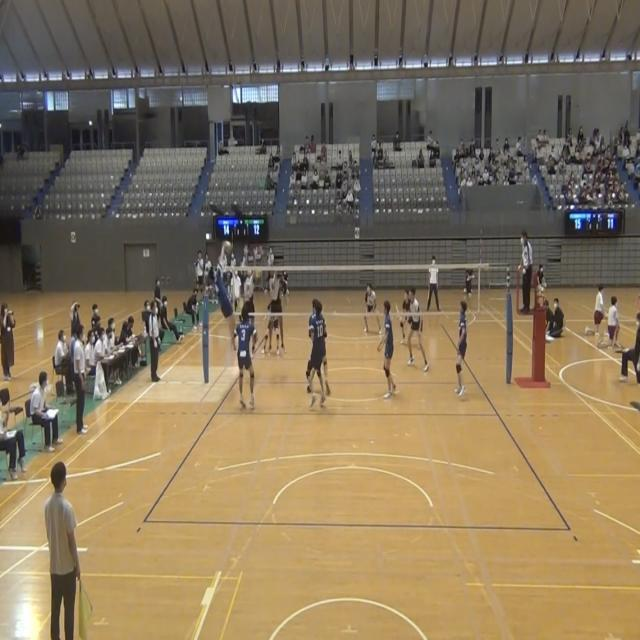spike: (206, 238, 242, 360)
